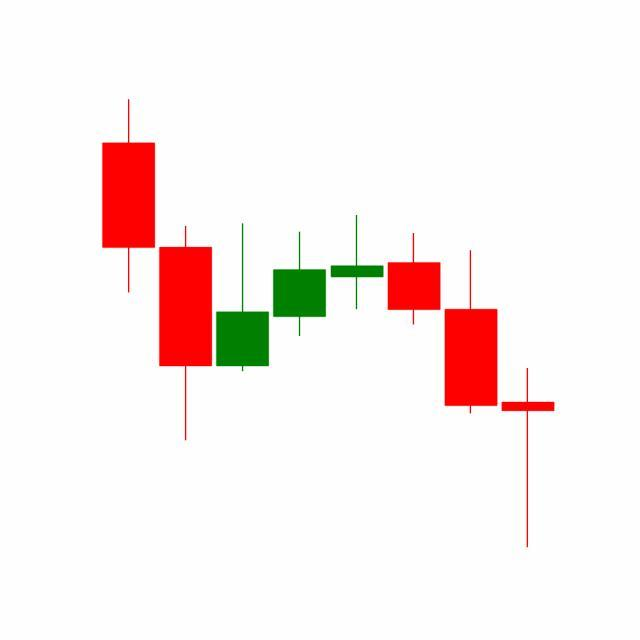Three Outside Up-Down: (328, 213, 500, 417)
